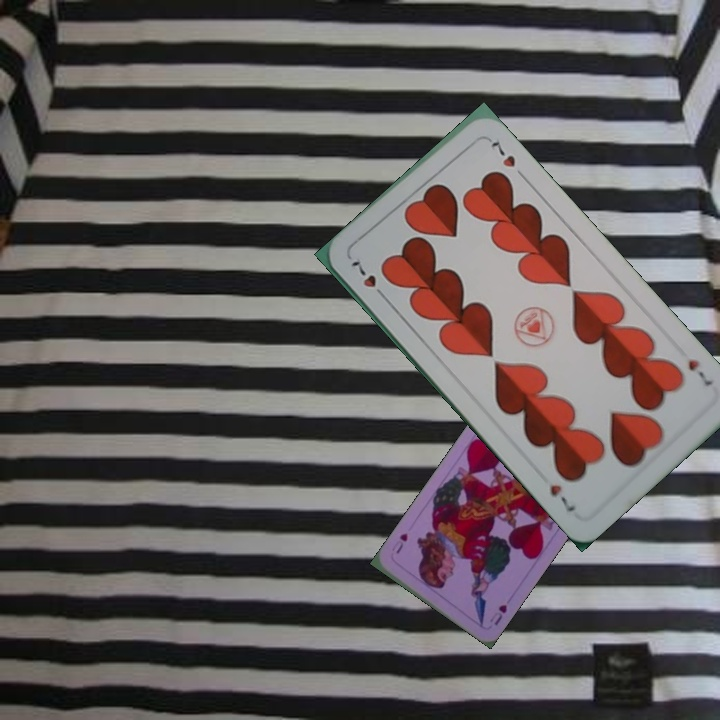H7: (347, 254, 390, 303), (683, 355, 715, 389)
HU: (485, 600, 510, 628)
